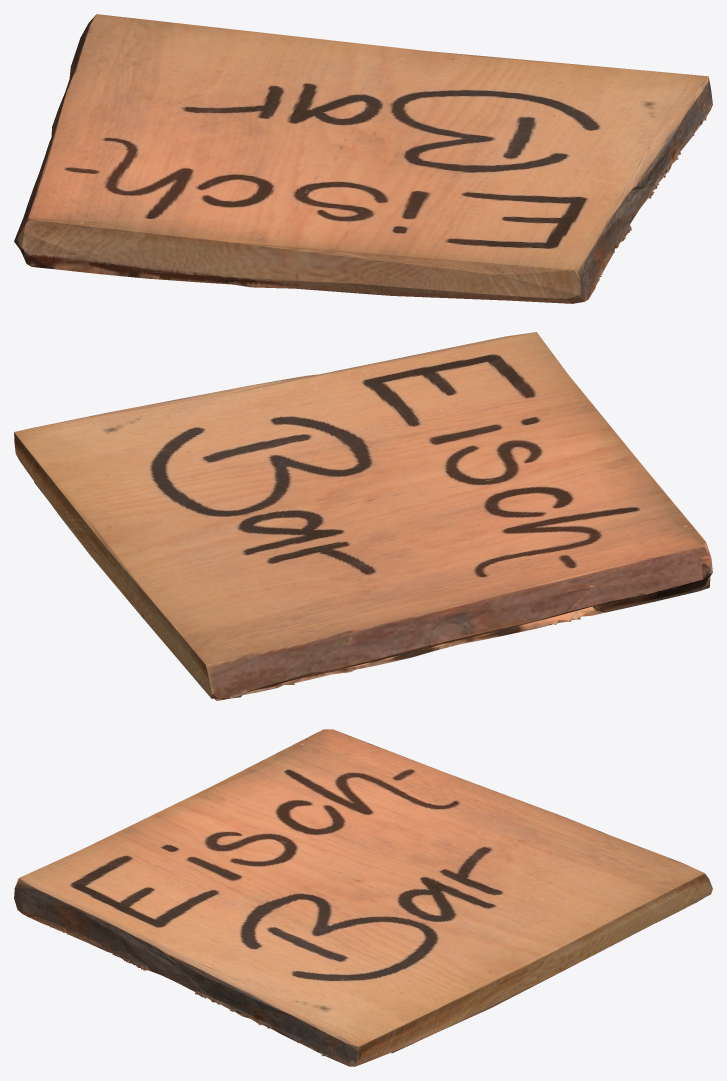
File: 47AC3422-87D0-AC4A-89FC-BA20DED785A2_512.glb
3 renders of one model, top to bottom at view 1: azimuth 30°, elevation 25°; view 2: azimuth 150°, elevation 25°; view 3: azimuth 270°, elevation 25°, orthographic. The views are drawn at different scales.
Visible parts, largest first — view 1: Barschild_8k_512; view 2: Barschild_8k_512; view 3: Barschild_8k_512.
Boxes of the visible parts, x1,y1,x2,y2 form: Barschild_8k_512: (14, 14, 712, 303); Barschild_8k_512: (14, 332, 712, 700); Barschild_8k_512: (14, 729, 712, 1066).
Bounding box in the file's own units: 0.648 × 0.0627 × 0.6641.
1 material, 1 textured.
